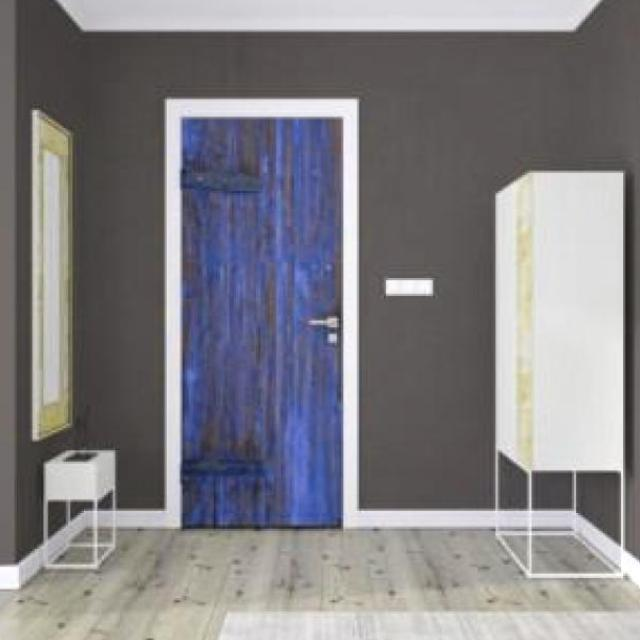door: (178, 110, 344, 528)
